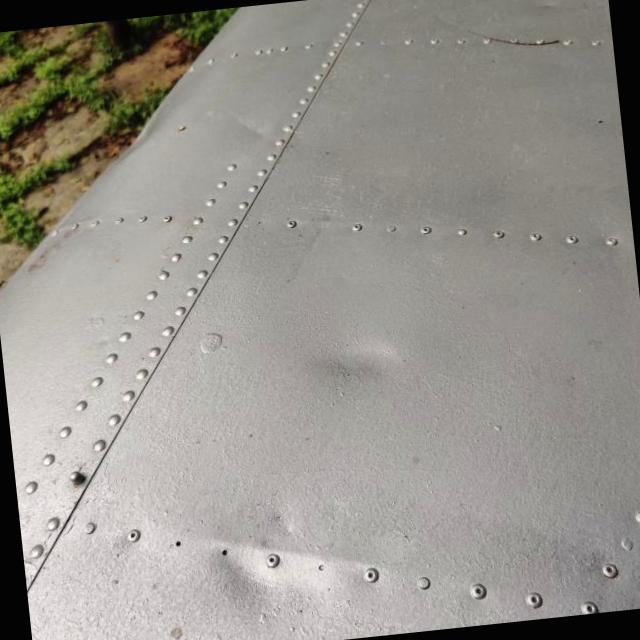dent: (188, 484, 340, 632), (290, 288, 438, 421)
